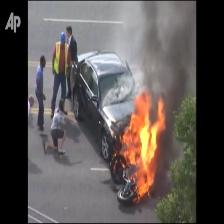fire: (129, 100, 158, 192)
smoke: (137, 3, 193, 97)
